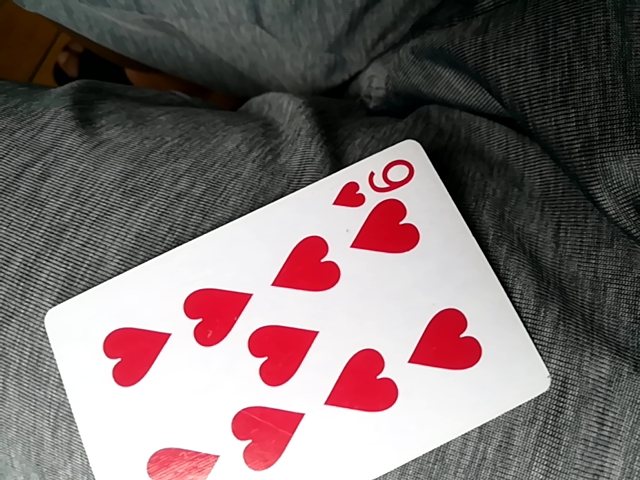hx 9: (45, 137, 559, 479)
